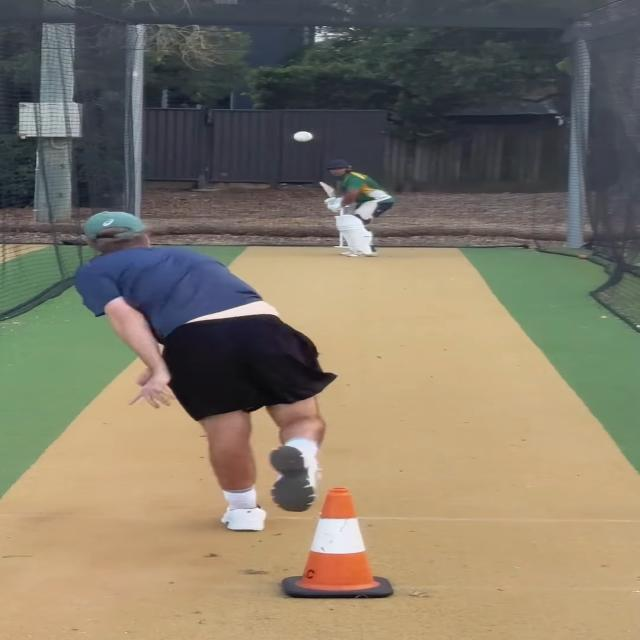Cricket ball: (290, 128, 316, 144)
